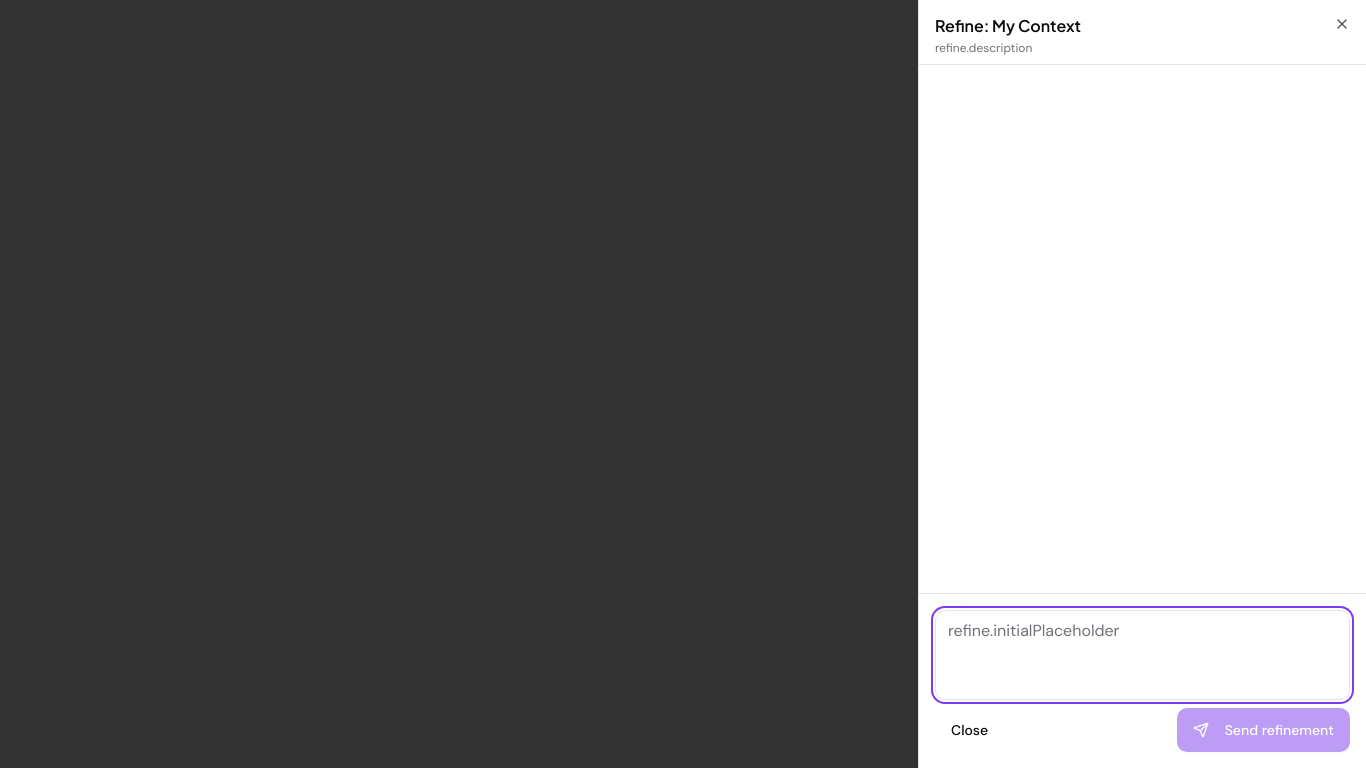
Scenario: ContextualRefinementPanel › shows streamed assistant message (and reasoning) when SSE completes
Type "go" into the text box named "Refinement message". click: (1142, 655)
box: [935,610,1350,700]
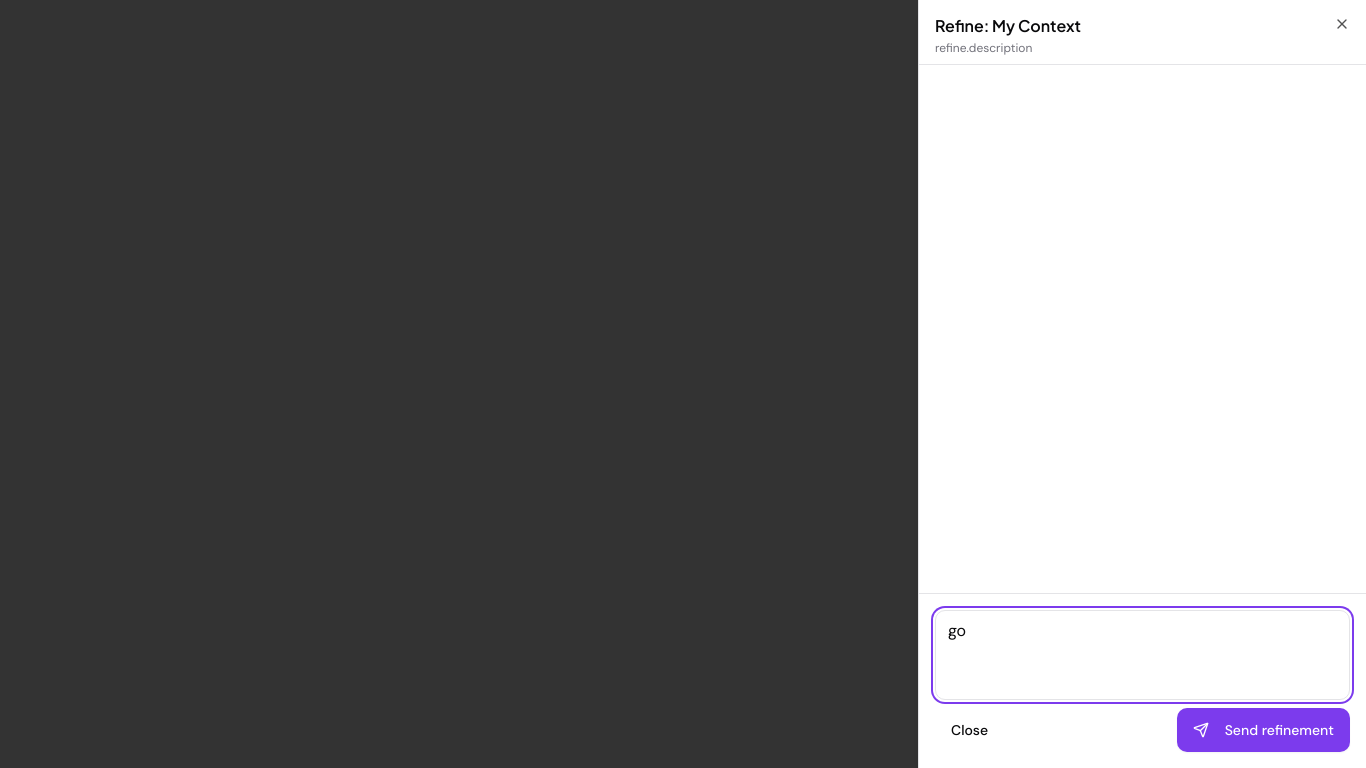
Click the button with aria-label "Send refinement". click: (1263, 730)
box: [1177,708,1350,752]
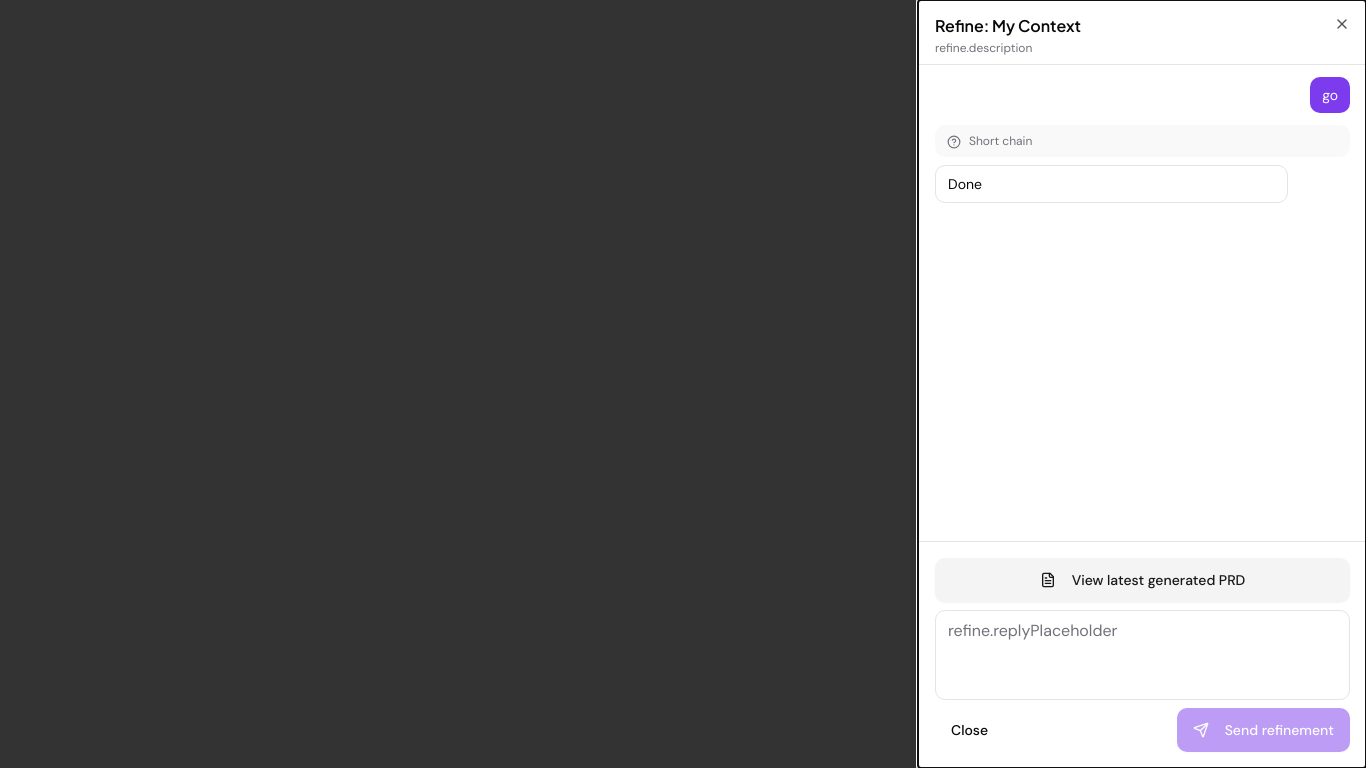
Expected: the text "Done" is shown, [935,165,1288,203]
Expected: the text "Short chain" is shown, [969,133,1032,149]
